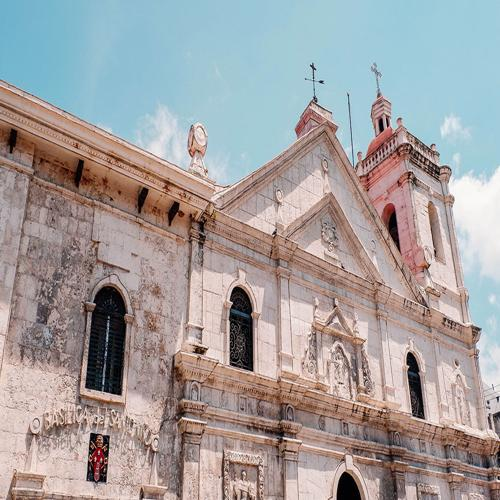Sto. Nino Basilica Church: (187, 49, 495, 500)
